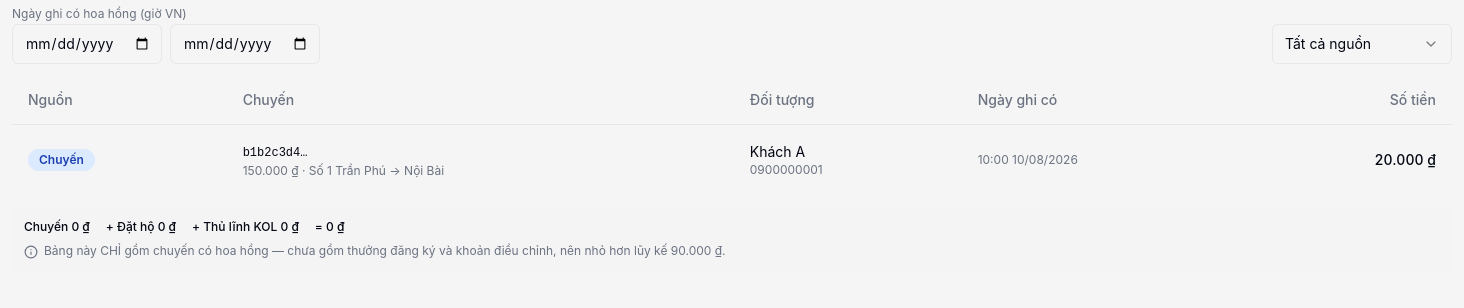
Test case: ReferrerTripsTab › chỉ chọn một đầu ngày → KHÔNG gọi API, nhắc chọn đủ cặp
Expected: the text "Khách A" is shown, [750, 142, 805, 160]
Type "2026-08-01" into the 1st date field at {"x": 87, "y": 44}, box [12, 24, 162, 64]
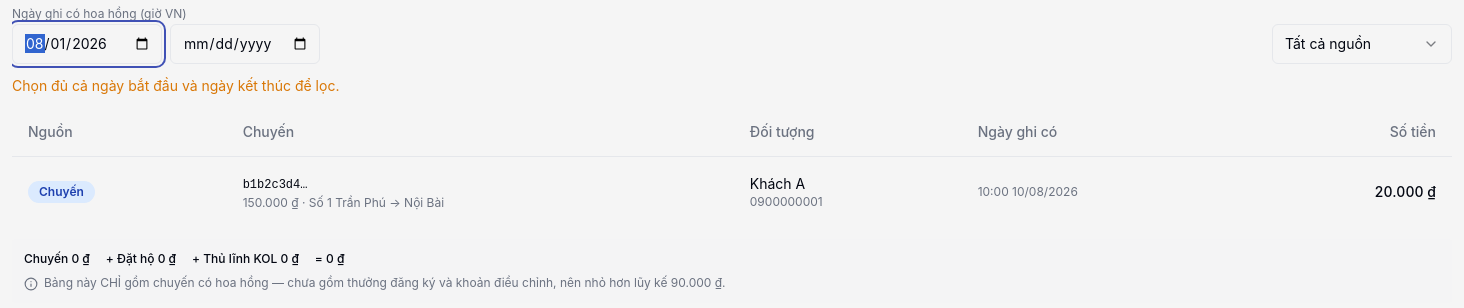
Result: the text "Chọn đủ cả ngày bắt đầu và ngày kết thúc để lọc." is shown at [12, 77, 339, 94]
